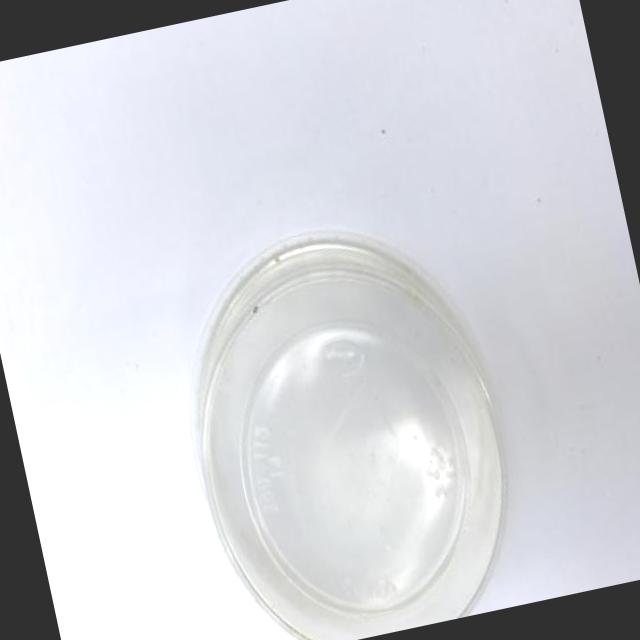Trash: (152, 198, 541, 640)
